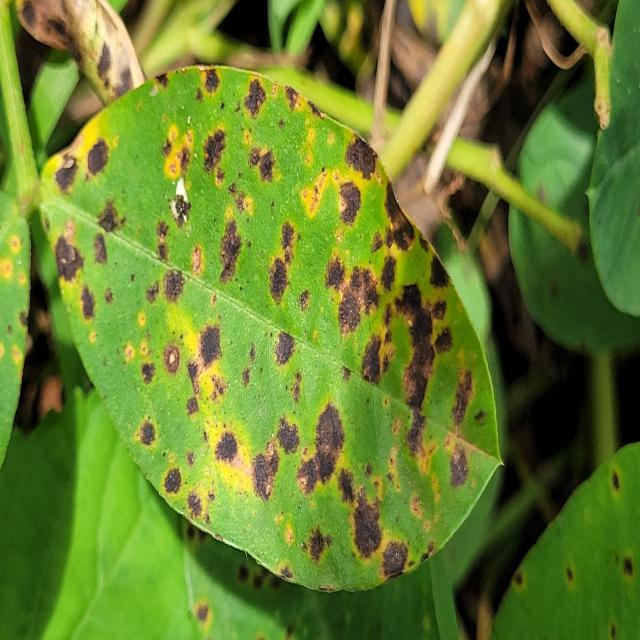Ground nut_tikka leaf spot: (39, 59, 506, 596)
